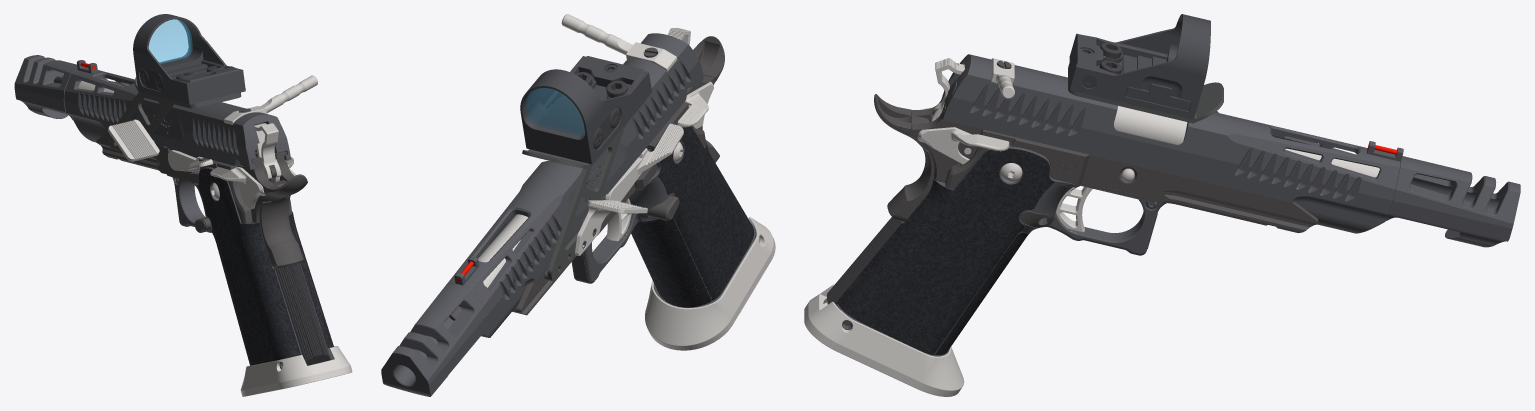
File: openc.glb
3 views of the same model, side by side, from view 1: azimuth 30°, elevation 25°; view 2: azimuth 150°, elevation 25°; view 3: azimuth 270°, elevation 25° (orthographic). The views are drawn at different scales.
Visible parts, largest first — view 1: 握把-1, 滑套, 右拇指保險-1, frame optic mount-2, cmore-1.001, 擊錘簧座_預設.stp-1, 準心座-1.001, glass-1; view 2: 握把-1, 滑套, 右拇指保險-1, cmore-1.001, 準心座-1.001, frame optic mount-2, glass-1, 擊錘簧座_預設.stp-1; view 3: 滑套, 握把-1, frame optic mount-2, 右拇指保險-1, cmore-1.001, 準心座-1.001, 擊錘簧座_預設.stp-1.
Part boxes in pixels (x1=…): 握把-1: x1=167, y1=167, x2=334, y2=369; 滑套: x1=64, y1=70, x2=290, y2=169; 右拇指保險-1: x1=78, y1=75, x2=352, y2=396; frame optic mount-2: x1=96, y1=76, x2=307, y2=268; cmore-1.001: x1=133, y1=14, x2=245, y2=104; 擊錘簧座_預設.stp-1: x1=140, y1=65, x2=329, y2=365; 準心座-1.001: x1=14, y1=55, x2=97, y2=120; glass-1: x1=148, y1=19, x2=192, y2=63; 握把-1: x1=571, y1=126, x2=759, y2=307; 滑套: x1=448, y1=33, x2=703, y2=337; 右拇指保險-1: x1=478, y1=14, x2=775, y2=350; cmore-1.001: x1=520, y1=56, x2=651, y2=164; 準心座-1.001: x1=381, y1=256, x2=488, y2=396; frame optic mount-2: x1=449, y1=36, x2=724, y2=320; glass-1: x1=526, y1=88, x2=584, y2=136; 擊錘簧座_預設.stp-1: x1=575, y1=65, x2=627, y2=149; 滑套: x1=941, y1=54, x2=1400, y2=233; 握把-1: x1=835, y1=146, x2=1166, y2=356; frame optic mount-2: x1=843, y1=60, x2=1318, y2=325; 右拇指保險-1: x1=804, y1=58, x2=1379, y2=396; cmore-1.001: x1=1069, y1=14, x2=1210, y2=119; 準心座-1.001: x1=1367, y1=141, x2=1520, y2=247; 擊錘簧座_預設.stp-1: x1=827, y1=42, x2=1122, y2=304.
Size of the model in its own units: 0.0751 by 0.1685 by 0.2954.
12 materials, 1 textured.
